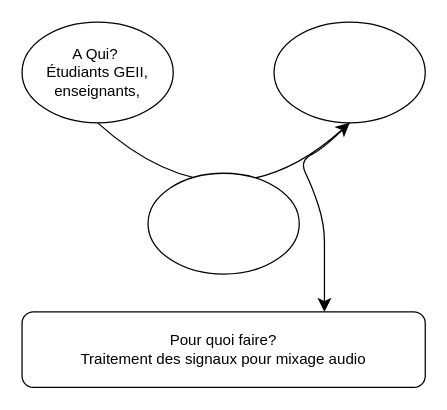
The diagram is 447 pixels wide and 410 high, and some of its shapes have lost their labels. The centre of each missing label's shape, as x and y in pixels:
"Sur Quoi? Instuments SAÉ, signaux audio" belongs at pixel 349 72.
"Système Table de Mixage" belongs at pixel 223 223.
